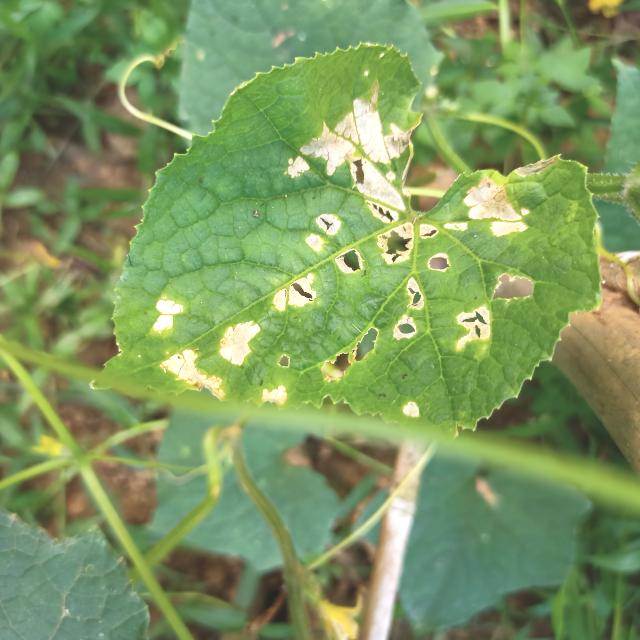disease_cucumber: (271, 87, 539, 356), (142, 272, 297, 408), (392, 390, 428, 421)
